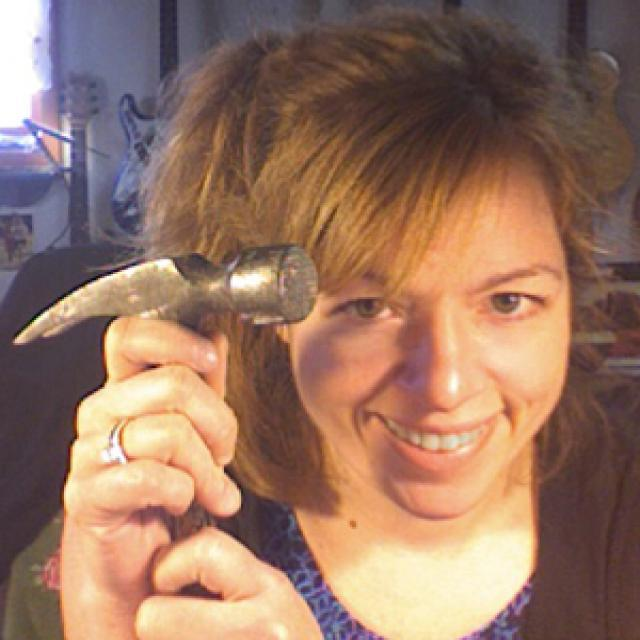hammer: (0, 219, 335, 610)
